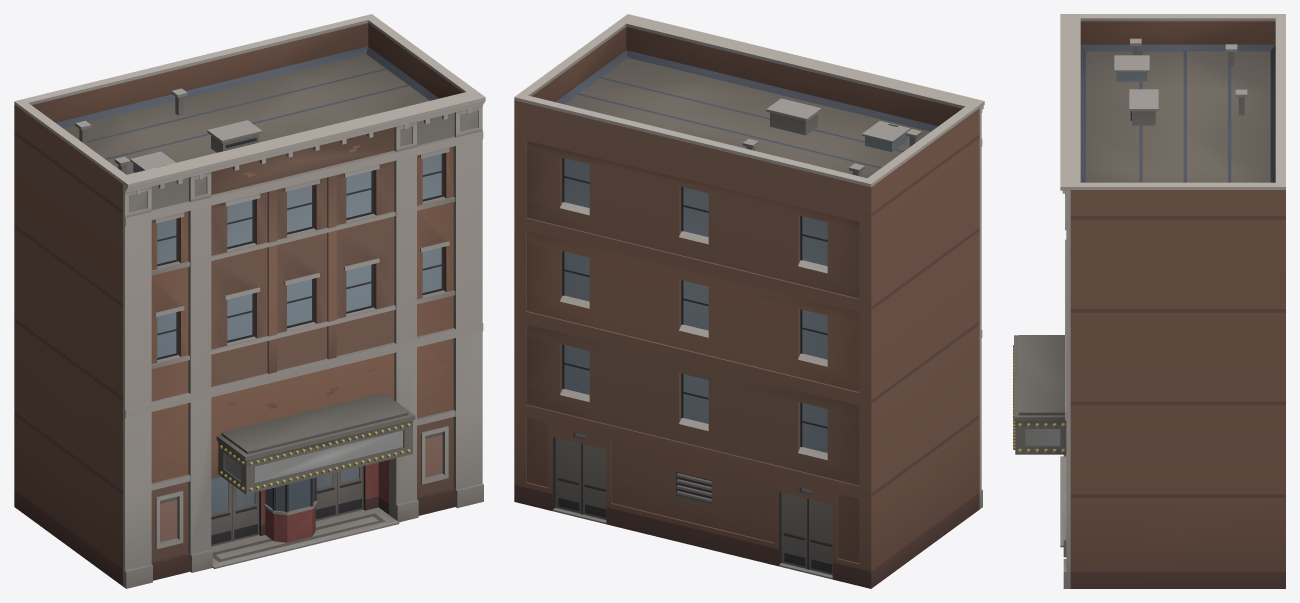
The model's file is theater.glb.
The picture shows the model from 3 angles, left to right: view 1: azimuth 30°, elevation 25°; view 2: azimuth 150°, elevation 25°; view 3: azimuth 270°, elevation 25°; orthographic projection.
Parts seen in each view (by area): view 1: theater; view 2: theater; view 3: theater.
Boxes of the visible parts, x1=… form: theater: x1=14, y1=14, x2=485, y2=588; theater: x1=514, y1=14, x2=984, y2=588; theater: x1=1013, y1=14, x2=1285, y2=588.
Size of the model in its own units: 12 by 13 by 8.
